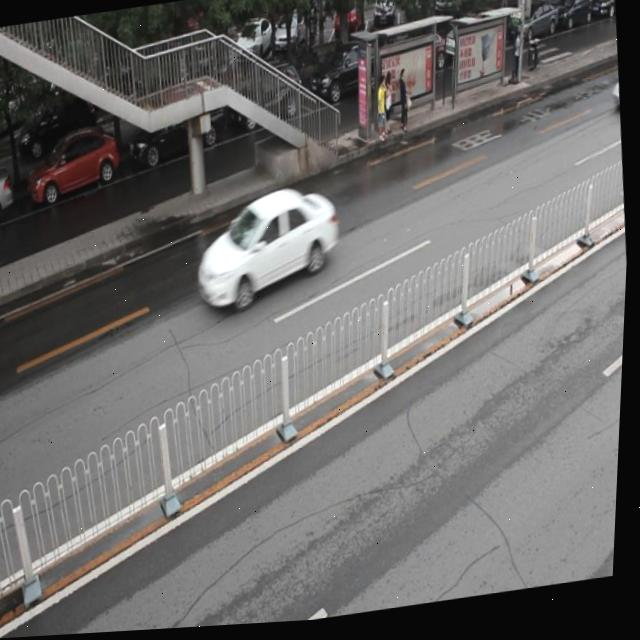car: (191, 187, 345, 316), (25, 126, 125, 207), (127, 96, 230, 168), (306, 44, 383, 113), (228, 69, 306, 134), (0, 159, 16, 229)
